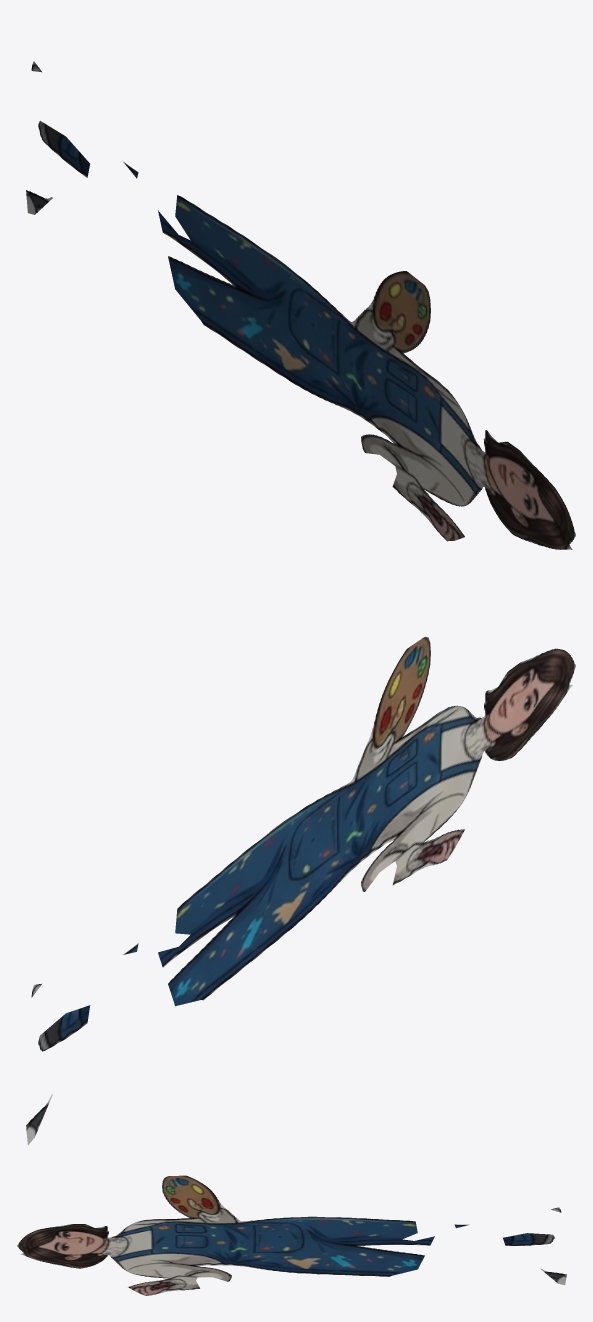
Rendered from person.obj.
3 views of the same model, one above another, from view 1: azimuth 30°, elevation 25°; view 2: azimuth 150°, elevation 25°; view 3: azimuth 270°, elevation 25° (orthographic). The views are drawn at different scales.
Parts seen in each view (by area): view 1: person_cutout; view 2: person_cutout; view 3: person_cutout.
Boxes of the visible parts, x1,y1,x2,y2 form: person_cutout: [26, 61, 575, 549]; person_cutout: [26, 636, 575, 1144]; person_cutout: [17, 1175, 566, 1295].
Bounding box in the file's own units: 0 × 0.039 × 0.15.
